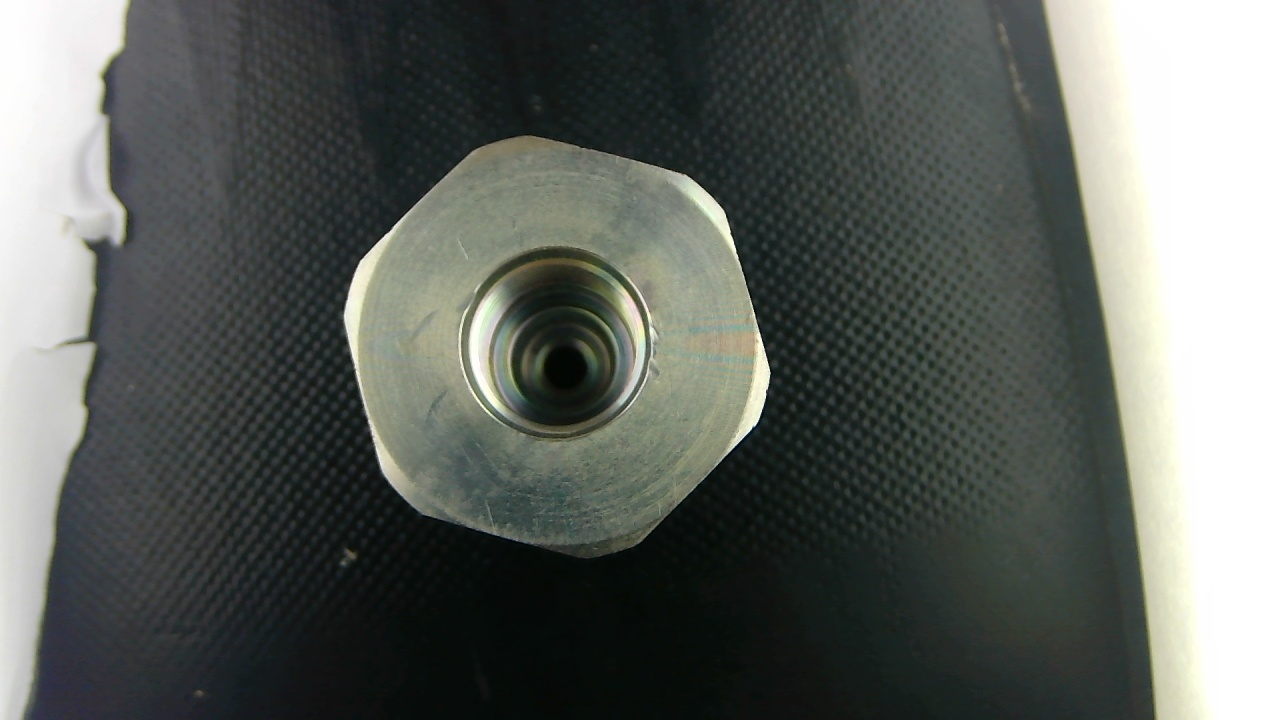Capnut_Surface_Dent: (644, 321, 663, 381)
